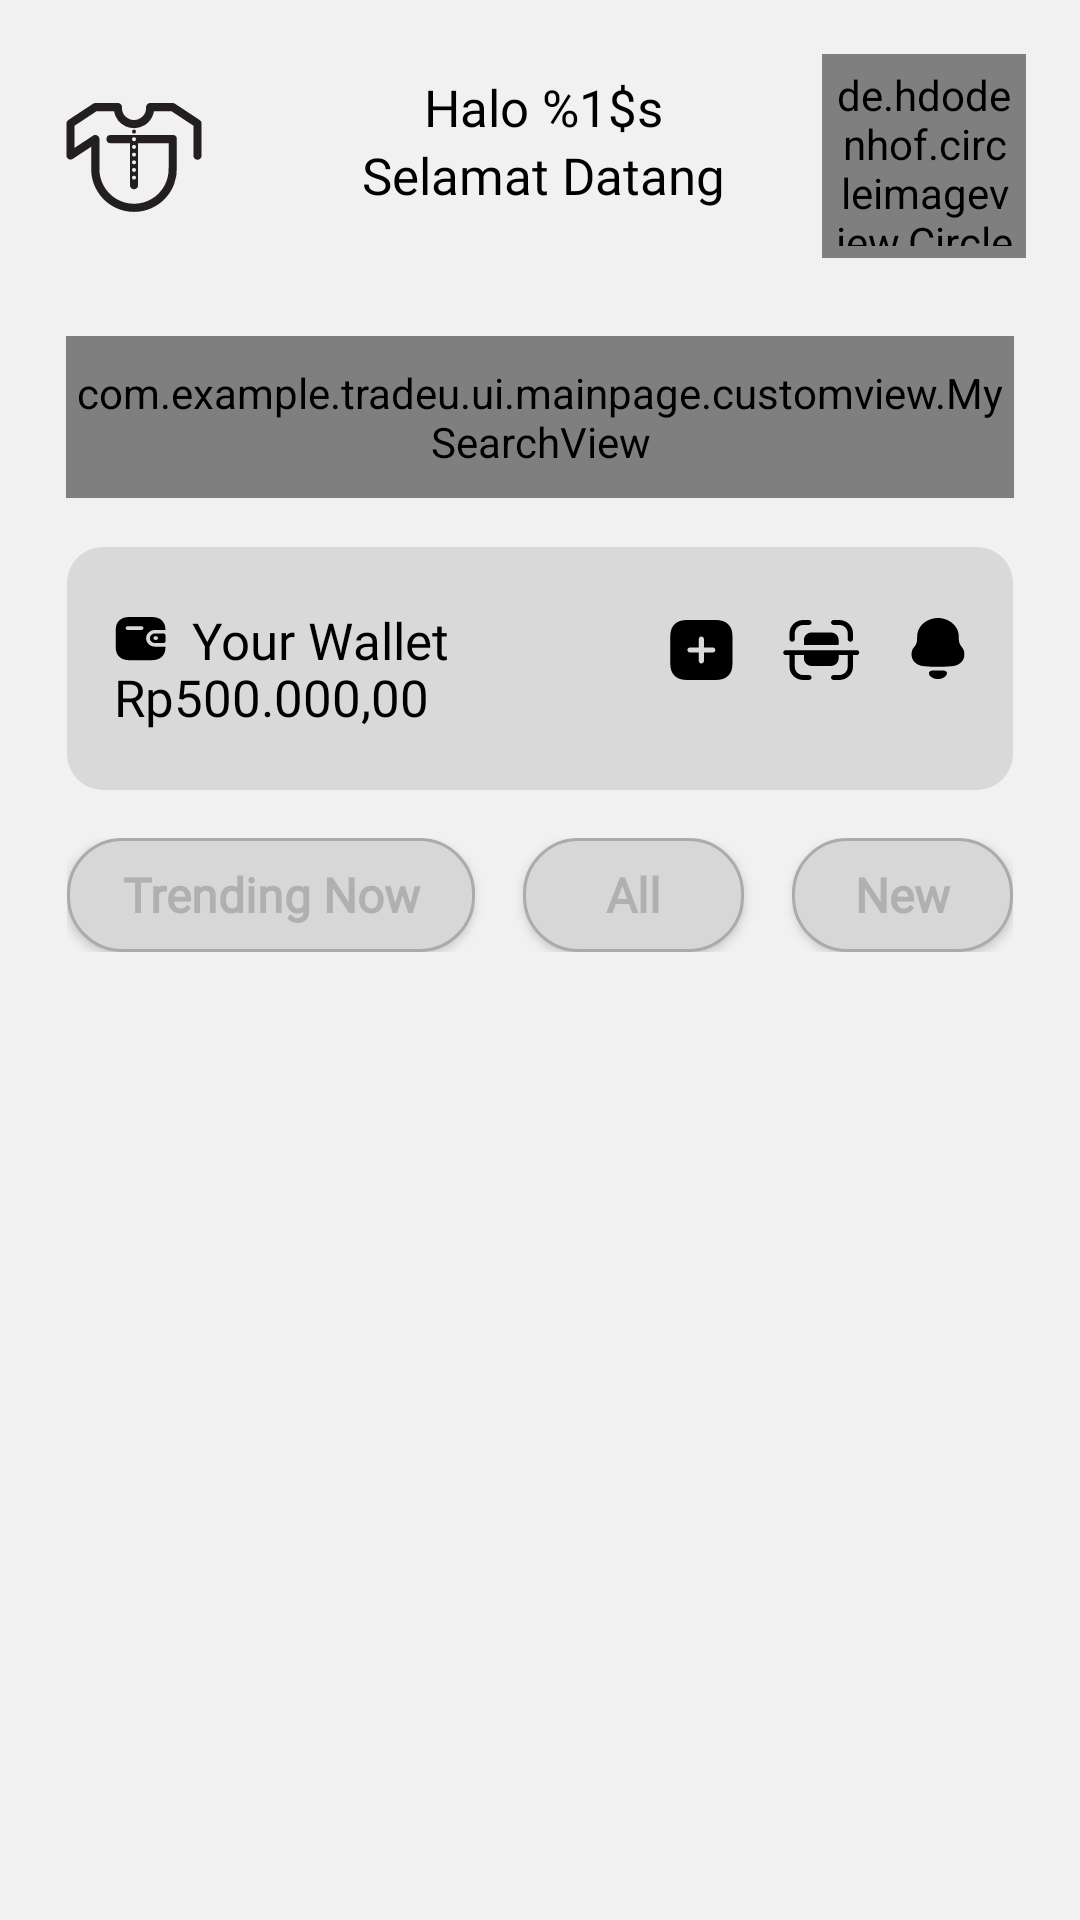

Icons on this 1080 × 1920 Android screen, each with the point to tap as (x=x, y=y):
add: (x=701, y=650)
notif: (x=938, y=648)
scan: (x=821, y=650)
